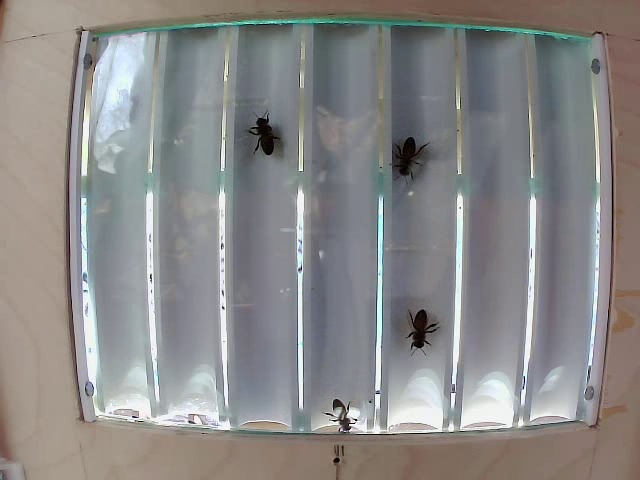bee: (392, 117, 425, 206), (242, 104, 287, 163), (401, 300, 443, 350)
